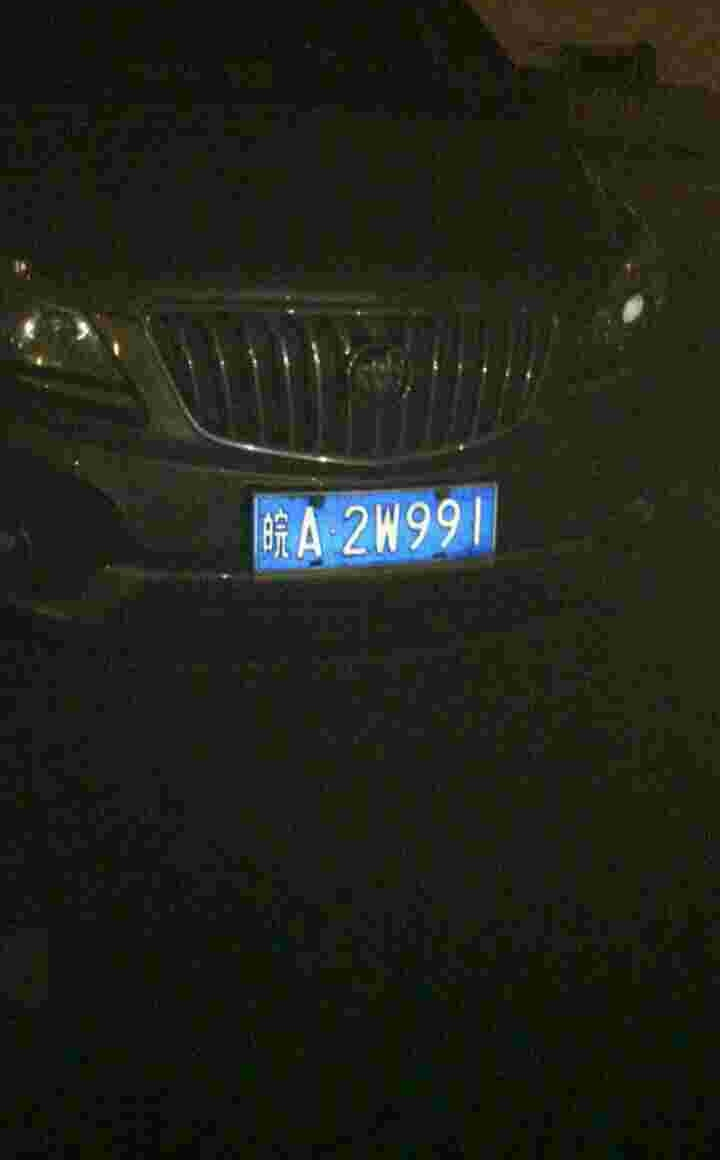license_plate: (263, 487, 493, 572)
